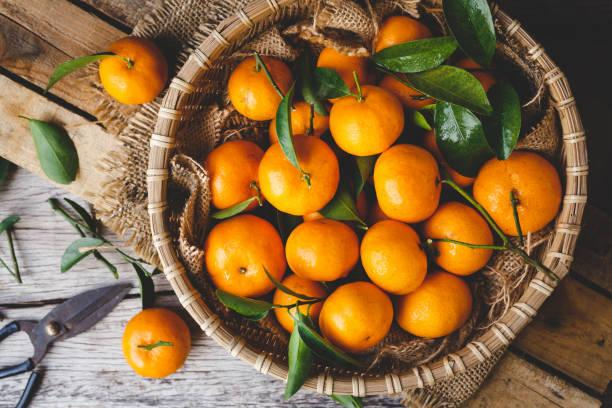orange: (363, 141, 473, 220), (314, 82, 421, 159), (199, 204, 285, 296), (302, 283, 401, 360), (483, 146, 564, 230), (120, 302, 187, 396), (252, 131, 336, 202), (418, 205, 511, 267), (287, 218, 379, 274), (95, 40, 156, 121), (358, 228, 435, 288), (395, 267, 457, 341), (209, 145, 270, 213), (235, 36, 294, 106), (377, 8, 438, 47)
